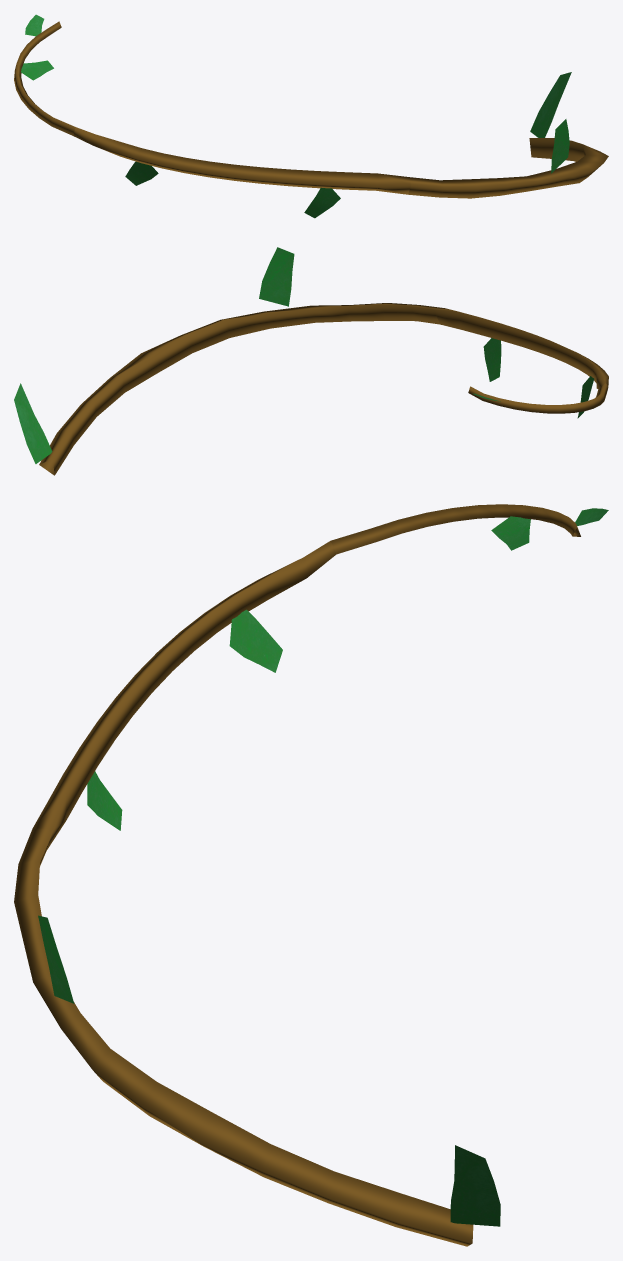
The model's file is Cipo Alongado.fbx.
The picture shows the model from 3 angles, top to bottom: view 1: azimuth 30°, elevation 25°; view 2: azimuth 150°, elevation 25°; view 3: azimuth 270°, elevation 25°; orthographic projection. The views are drawn at different scales.
Parts seen in each view (by area): view 1: polySurface172; view 2: polySurface172; view 3: polySurface172.
Part boxes in pixels (x1,y1,x2,y2): polySurface172: [14, 14, 608, 218]; polySurface172: [14, 247, 608, 475]; polySurface172: [14, 504, 608, 1246].
Bounding box in the file's own units: 464 × 178 × 261.
Materials: 1 (1 with a texture image).
